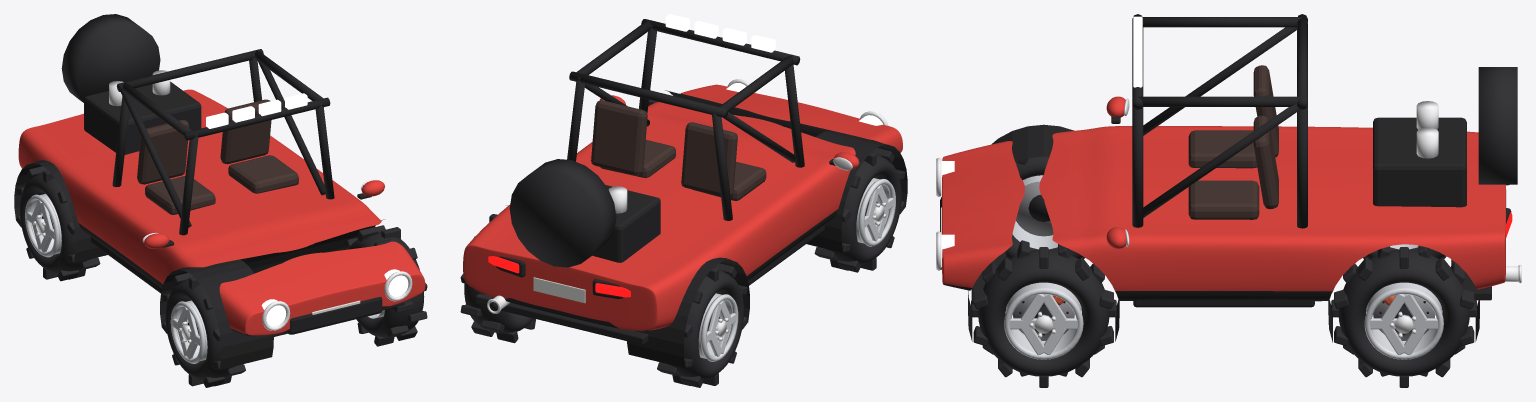
The model's file is dune.glb.
The picture shows the model from 3 angles, left to right: view 1: azimuth 30°, elevation 25°; view 2: azimuth 150°, elevation 25°; view 3: azimuth 270°, elevation 25°; orthographic projection. The views are drawn at different scales.
Parts seen in each view (by area): view 1: body, wheel_fr, wheel_rr, wheel_fl; view 2: body, wheel_fr, wheel_rr, wheel_rl; view 3: body, wheel_fl, wheel_rl, wheel_fr.
Part boxes in pixels (x1,y1,x2,y2): body: (14,14,425,369); wheel_fr: (162,273,245,387); wheel_rr: (16,166,100,281); wheel_fl: (343,225,427,346); body: (463,14,907,368); wheel_fr: (814,148,905,272); wheel_rr: (657,263,747,387); wheel_rl: (460,214,535,343); body: (936,14,1521,342); wheel_fl: (971,240,1116,387); wheel_rl: (1331,245,1476,387); wheel_fr: (1006,156,1084,258).
Size of the model in its own units: 2.18 by 1.97 by 3.73.
